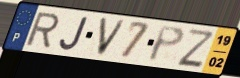7: (119, 20, 154, 60)
J: (58, 15, 90, 52)
P: (146, 24, 186, 64)
R: (24, 11, 61, 49)
V: (95, 15, 129, 58)
Z: (175, 27, 215, 68)
